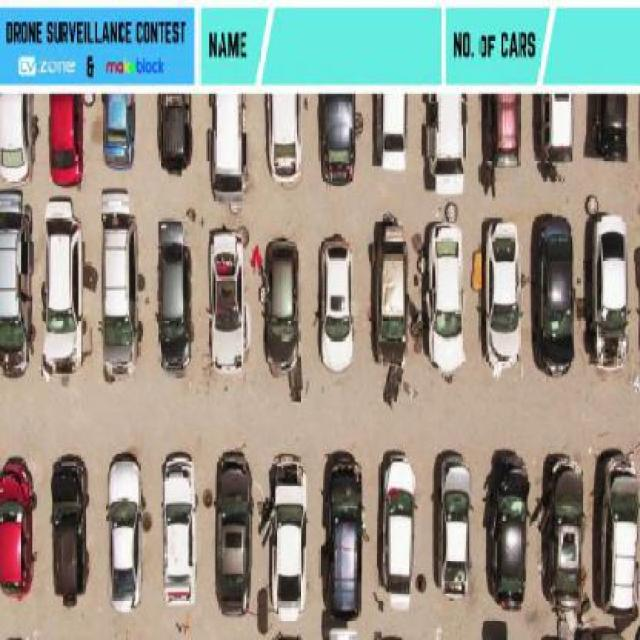car: (100, 194, 142, 374), (532, 212, 577, 378), (210, 447, 253, 616), (324, 455, 368, 620), (41, 208, 84, 370), (600, 452, 640, 623), (105, 454, 147, 616), (156, 215, 199, 372), (269, 456, 309, 623), (542, 458, 585, 613), (48, 452, 92, 602), (592, 212, 634, 369), (161, 454, 202, 609), (379, 453, 418, 612), (426, 221, 466, 376), (482, 220, 521, 376), (486, 461, 526, 612), (0, 193, 32, 377), (207, 226, 246, 376), (432, 450, 471, 599), (369, 218, 406, 368), (261, 235, 300, 374), (0, 452, 38, 593), (206, 92, 251, 202), (319, 235, 355, 371), (317, 94, 361, 188), (424, 94, 467, 181), (264, 93, 304, 185), (48, 94, 86, 186), (158, 95, 198, 177), (484, 90, 524, 165), (588, 96, 632, 162), (0, 95, 31, 185), (103, 96, 140, 170), (543, 95, 577, 166), (372, 90, 405, 162), (322, 616, 363, 640), (576, 623, 628, 640), (481, 618, 509, 640), (1, 634, 30, 640)
